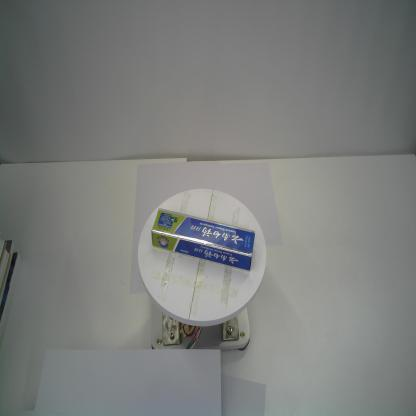Personal Hygiene: (152, 207, 255, 272)
